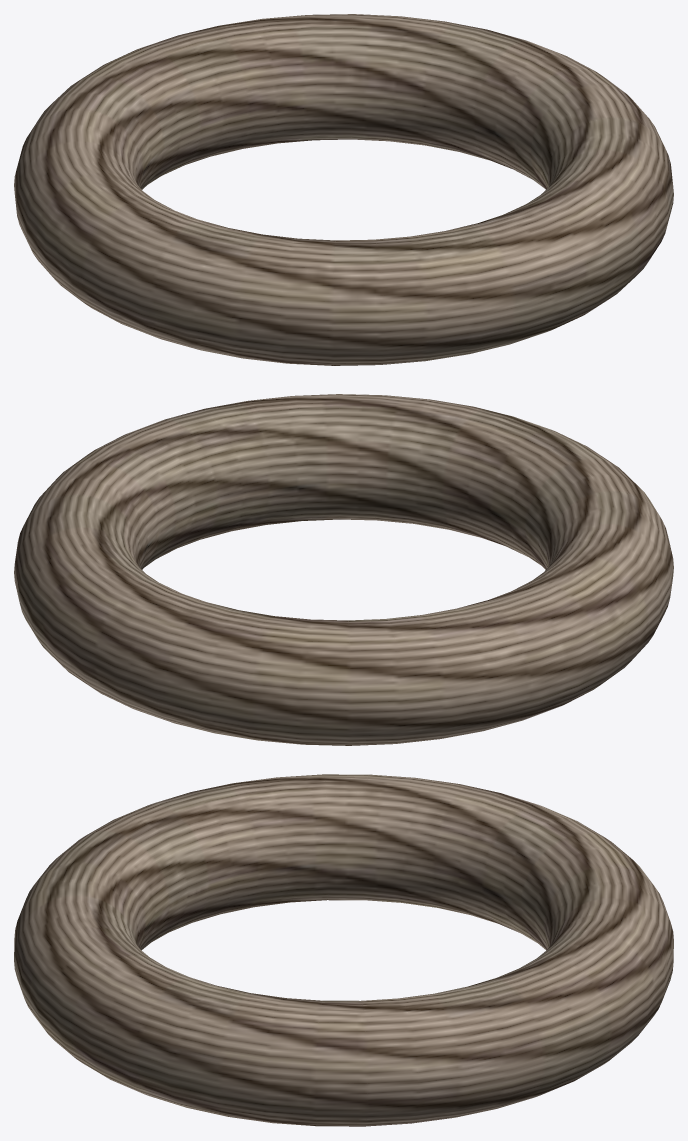
The model's file is Rope2F.fbx.
3 views of the same model, one above another, from view 1: azimuth 30°, elevation 25°; view 2: azimuth 150°, elevation 25°; view 3: azimuth 270°, elevation 25° (orthographic).
Visible parts, largest first — view 1: pasted__pTorus1; view 2: pasted__pTorus1; view 3: pasted__pTorus1.
Boxes of the visible parts, x1,y1,x2,y2 form: pasted__pTorus1: [14, 14, 673, 365]; pasted__pTorus1: [14, 394, 673, 745]; pasted__pTorus1: [14, 774, 673, 1126].
Size of the model in its own units: 0.8374 by 0.1601 by 0.8374.
